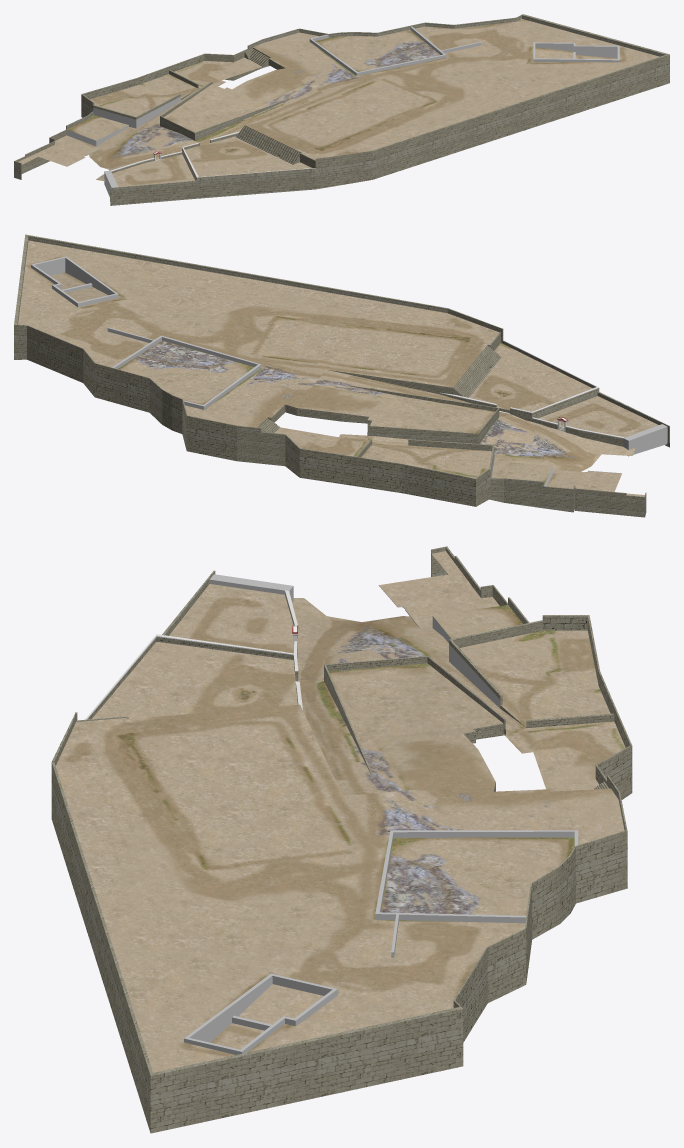
File: acropolisterrain.fbx
3 renders of one model, top to bottom at view 1: azimuth 30°, elevation 25°; view 2: azimuth 150°, elevation 25°; view 3: azimuth 270°, elevation 25°, orthographic. The views are drawn at different scales.
Visible parts, largest first — view 1: Group1; view 2: Group1; view 3: Group1.
Part boxes in pixels (<box>): Group1: <box>14,14,669,205</box>; Group1: <box>14,234,669,517</box>; Group1: <box>51,546,632,1133</box>.
Bounding box in the file's own units: 299869 × 17552 × 129562.
